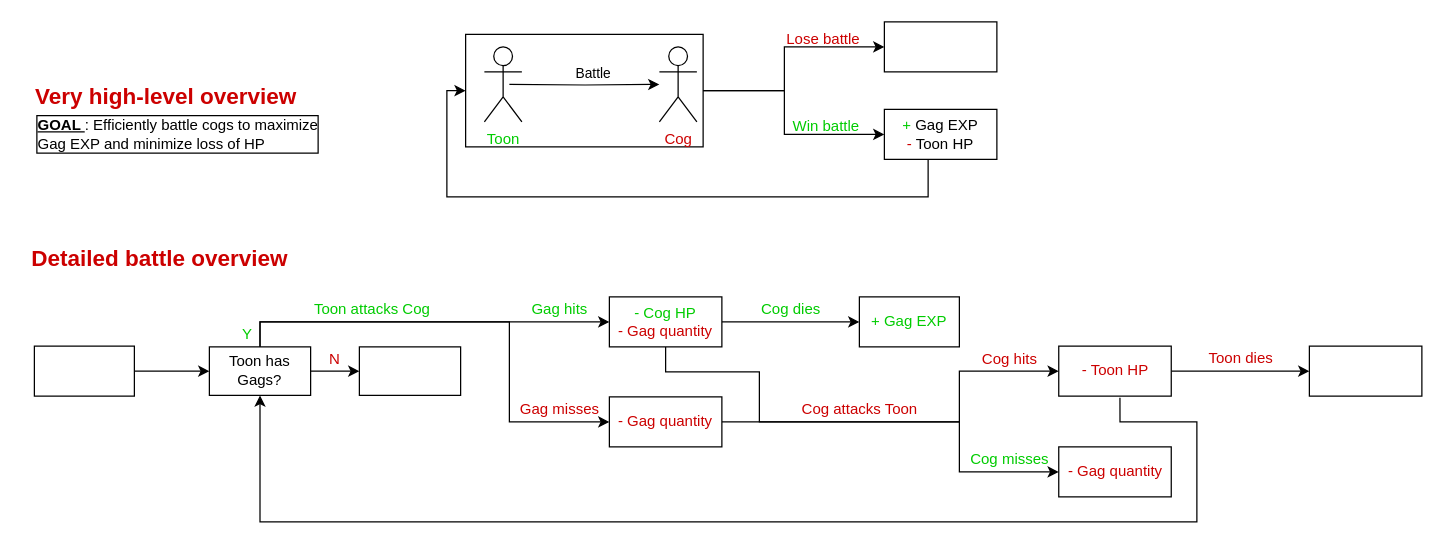
The diagram is 1444 pixels wide and 554 high, and some of its shapes have lost their labels. Here are the shapes that lost their labels. From the top down, the centre of each, then its label:
the point at 940,46: - All Gags - Toon HP
the point at 83,370: Toon begins battle
the point at 409,370: Toon runs
the point at 1365,370: - All Gags
